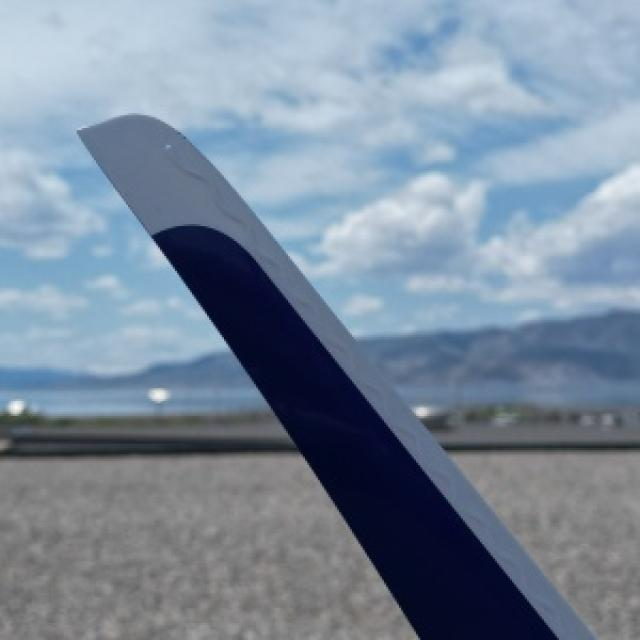healthy: (77, 119, 593, 638)
